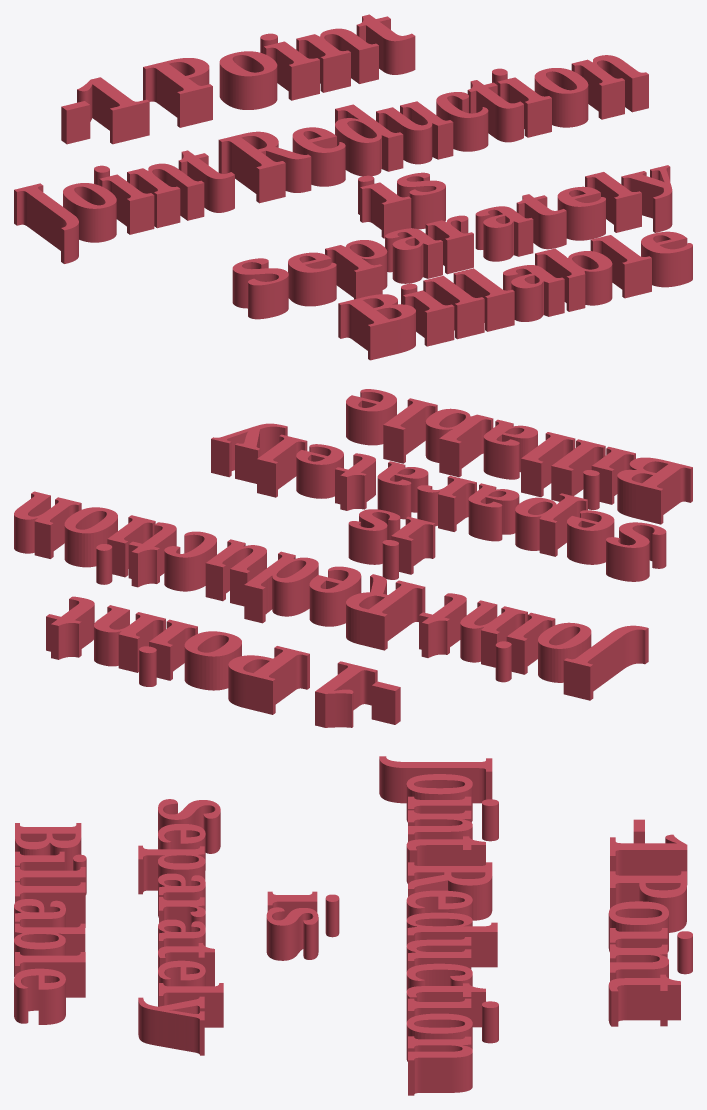
File: neank.gltf
3 renders of one model, top to bottom at view 1: azimuth 30°, elevation 25°; view 2: azimuth 150°, elevation 25°; view 3: azimuth 270°, elevation 25°, orthographic. The views are drawn at different scales.
Visible parts, largest first — view 1: Mesh_Mesh_head_geo001_lambert2SG001; view 2: Mesh_Mesh_head_geo001_lambert2SG001; view 3: Mesh_Mesh_head_geo001_lambert2SG001.
Part boxes in pixels (bbox=[...]): Mesh_Mesh_head_geo001_lambert2SG001: bbox=[14, 14, 692, 360]; Mesh_Mesh_head_geo001_lambert2SG001: bbox=[14, 389, 692, 727]; Mesh_Mesh_head_geo001_lambert2SG001: bbox=[14, 756, 692, 1095].
Size of the model in its own units: 185 by 10 by 175.
